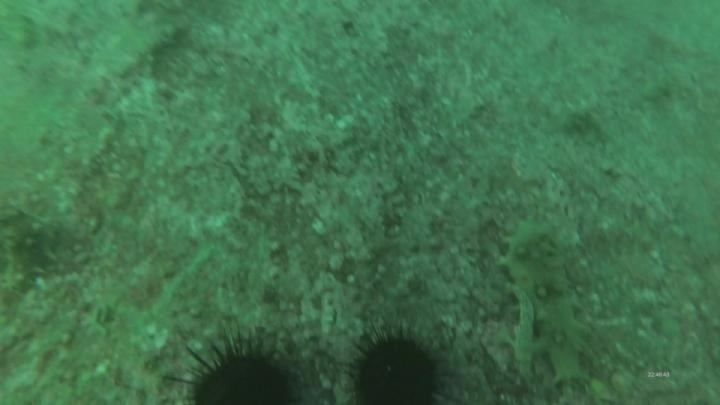echinus: (172, 325, 308, 404), (345, 324, 449, 405)
holothurian: (495, 215, 592, 389), (0, 207, 65, 305)
